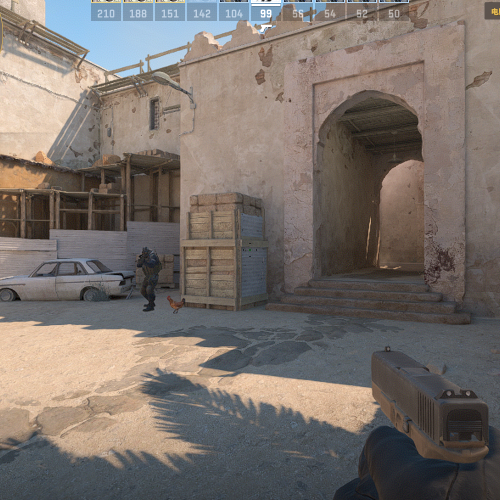chicken: (167, 296, 186, 315)
ct_body: (136, 247, 162, 312)
ct_head: (140, 246, 151, 258)
